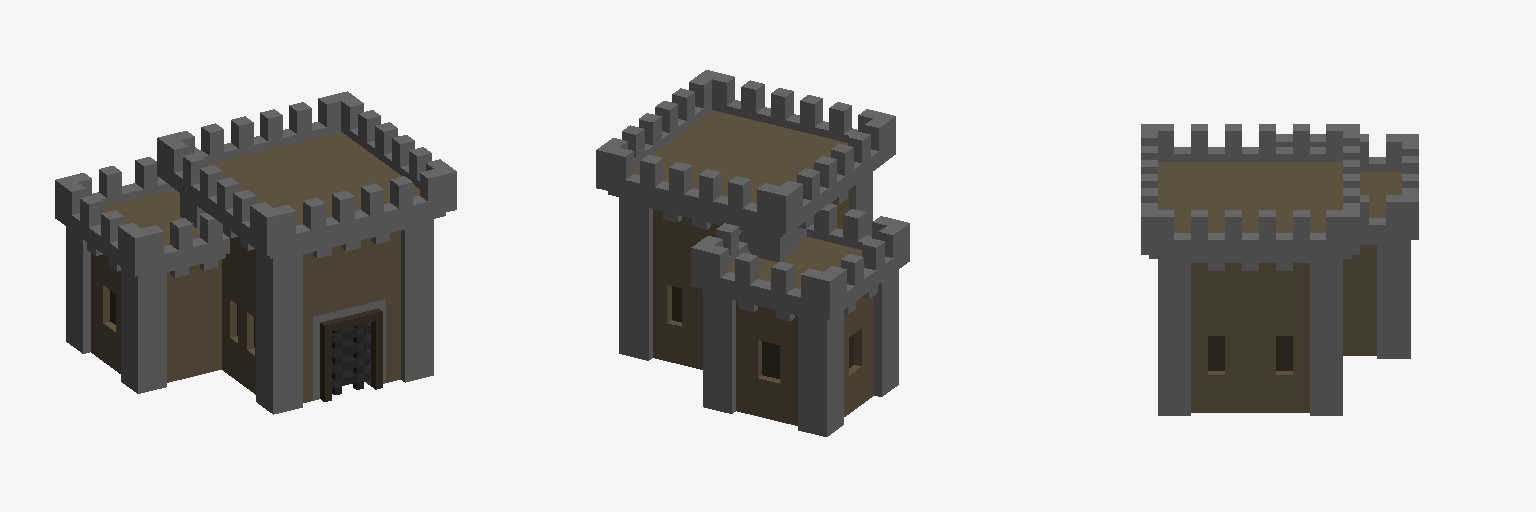
3 renders of one model, left to right at view 1: azimuth 30°, elevation 25°; view 2: azimuth 150°, elevation 25°; view 3: azimuth 270°, elevation 25°, orthographic.
Parts seen in each view (by area): view 1: object 1; view 2: object 1; view 3: object 1.
Part boxes in pixels (x1,y1,x2,y2): object 1: (55,91,456,414); object 1: (596,70,909,436); object 1: (1141,124,1418,415).
Bounding box in the file's own units: 3.6 × 2.7 × 3.3.
1 materials, 1 textured.